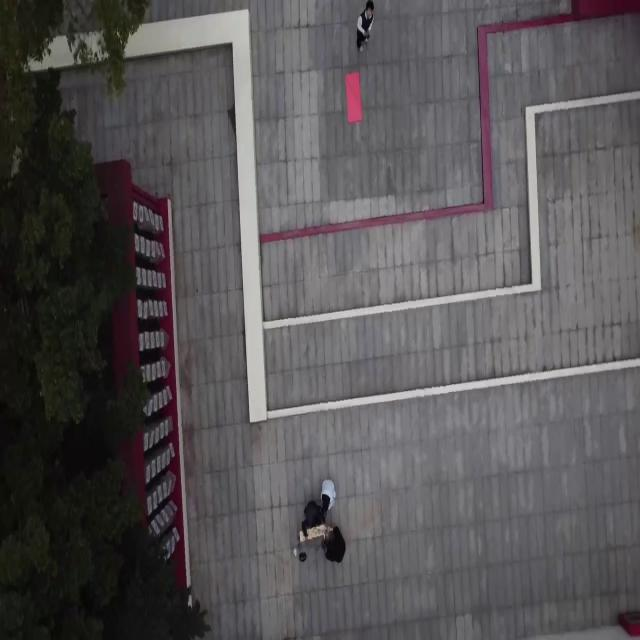-sign-: (88, 156, 192, 602), (345, 72, 363, 126)
